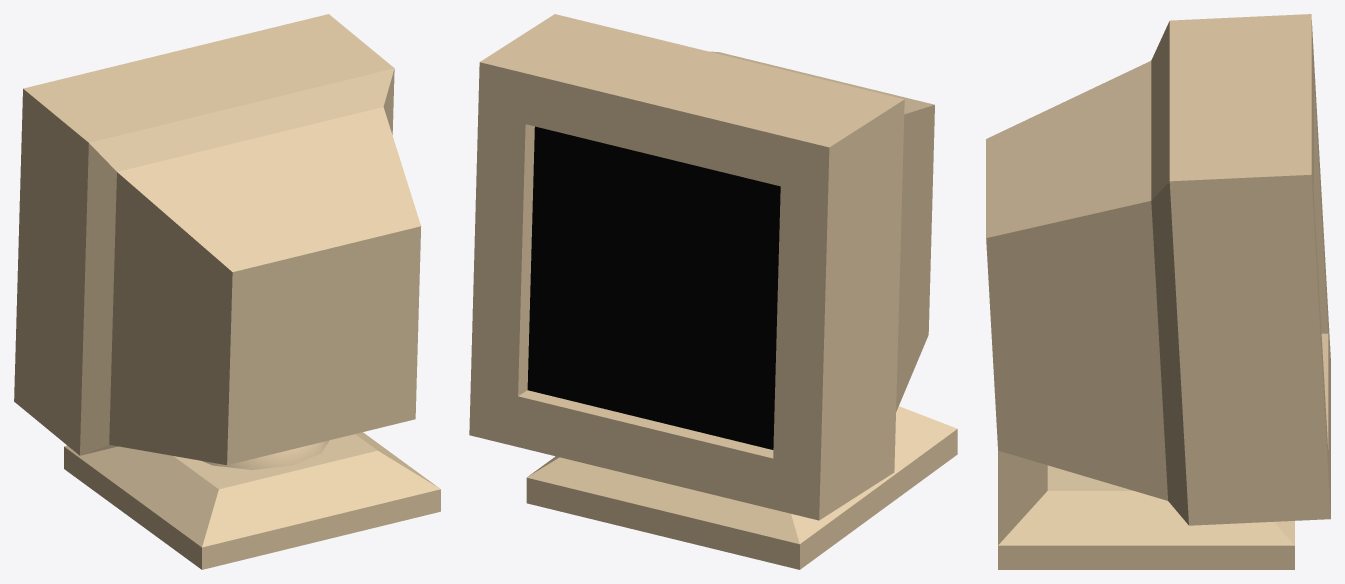
Rendered from computer1.fbx.
3 views of the same model, side by side, from view 1: azimuth 30°, elevation 25°; view 2: azimuth 150°, elevation 25°; view 3: azimuth 270°, elevation 25° (orthographic). The views are drawn at different scales.
Parts seen in each view (by area): view 1: Computer2; view 2: Computer2; view 3: Computer2.
Boxes of the visible parts, <box> form: Computer2: <box>14,14,440,569</box>; Computer2: <box>469,14,957,569</box>; Computer2: <box>986,14,1330,569</box>.
Bounding box in the file's own units: 65.19 × 78.03 × 59.06.
